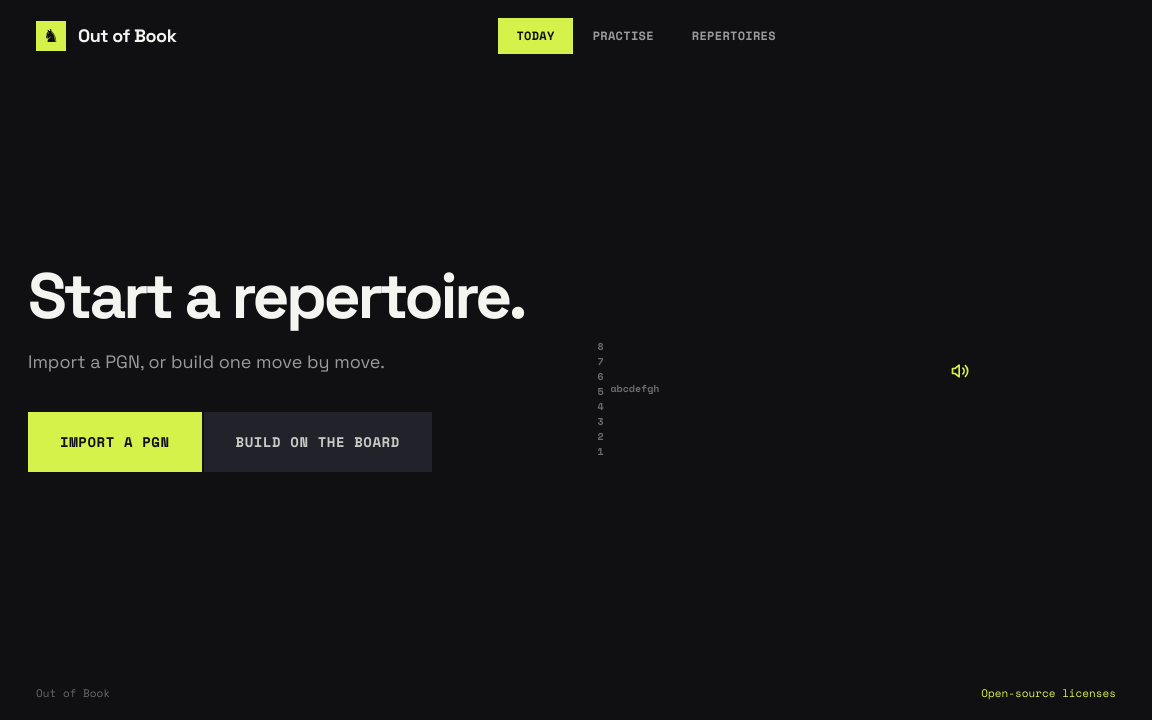
SparringApp › creates and persists a White preset before opening practice setup
What coordinates should you click on to do the following:
click the button "Practise"
I would click on:
 (623, 36)
Its box is top-left (575, 18), bottom-right (672, 54).
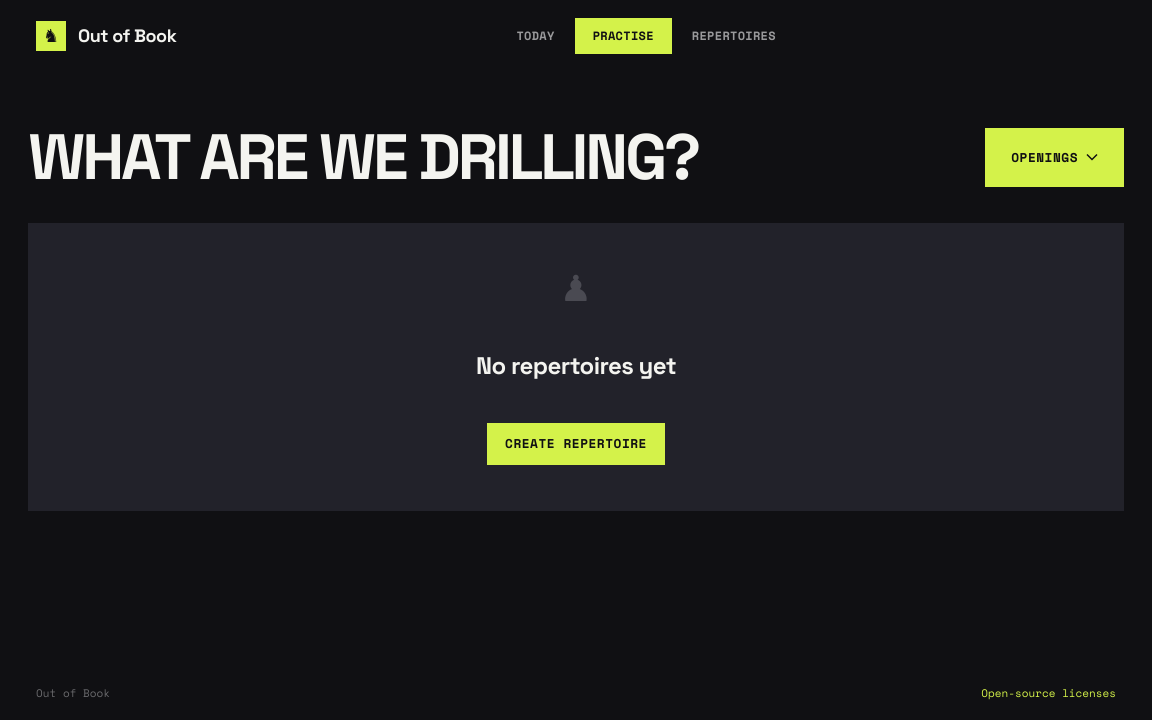
What coordinates should you click on to do the following:
click the button "Openings"
I would click on:
 (1055, 157)
Its box is top-left (985, 128), bottom-right (1124, 187).
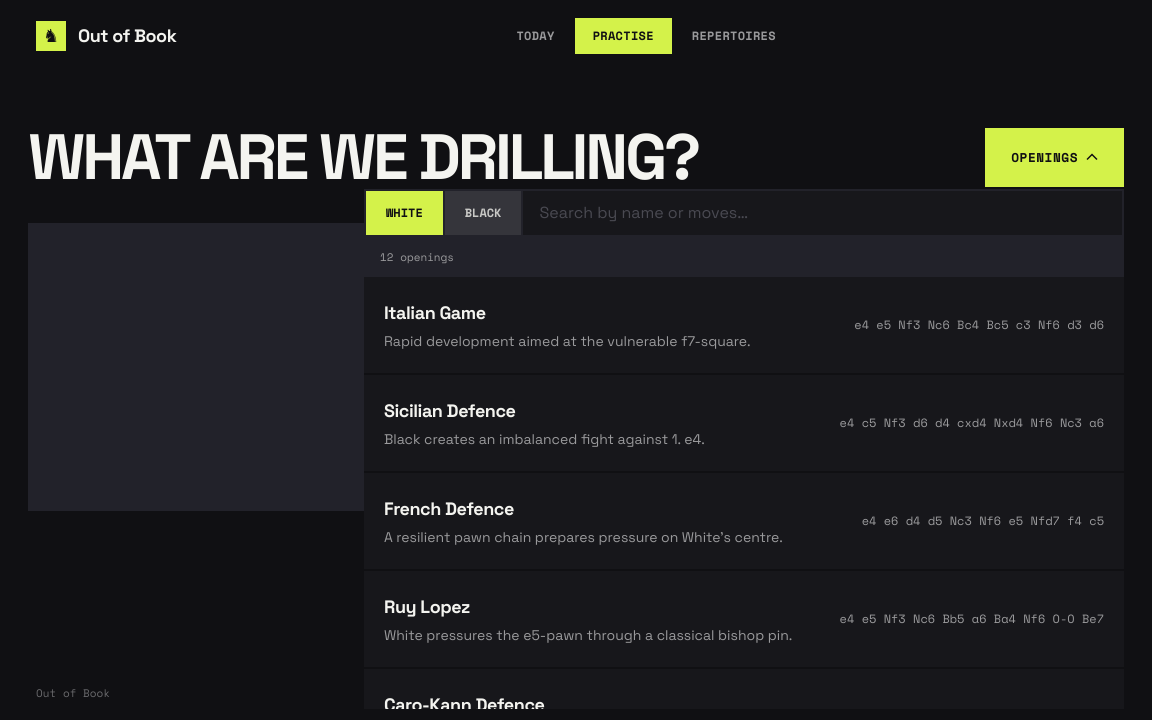
What coordinates should you click on to do the following:
click the button that starts with "Italian Game"
I would click on:
 (435, 313)
Its box is top-left (364, 277), bottom-right (1124, 373).
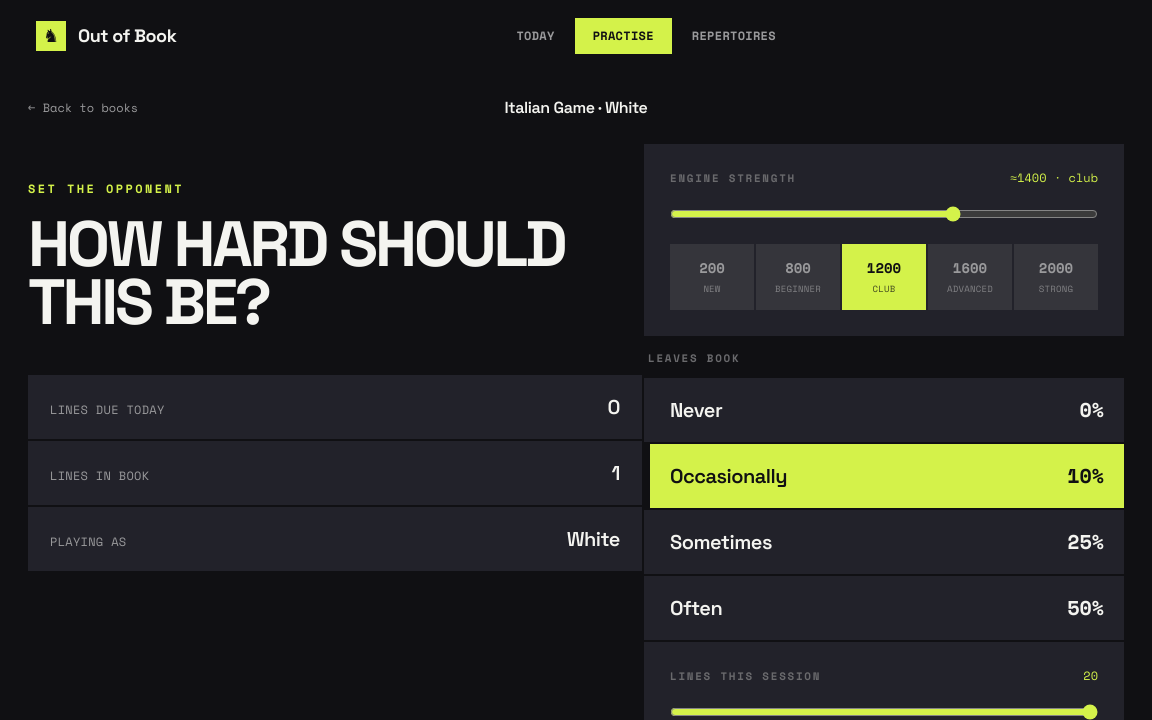
Check: the text "white" is shown, box top-left (567, 525), bottom-right (620, 553)
Check: the heading "HOW HARD SHOULD THIS BE?" is shown, box top-left (28, 216), bottom-right (642, 331)
